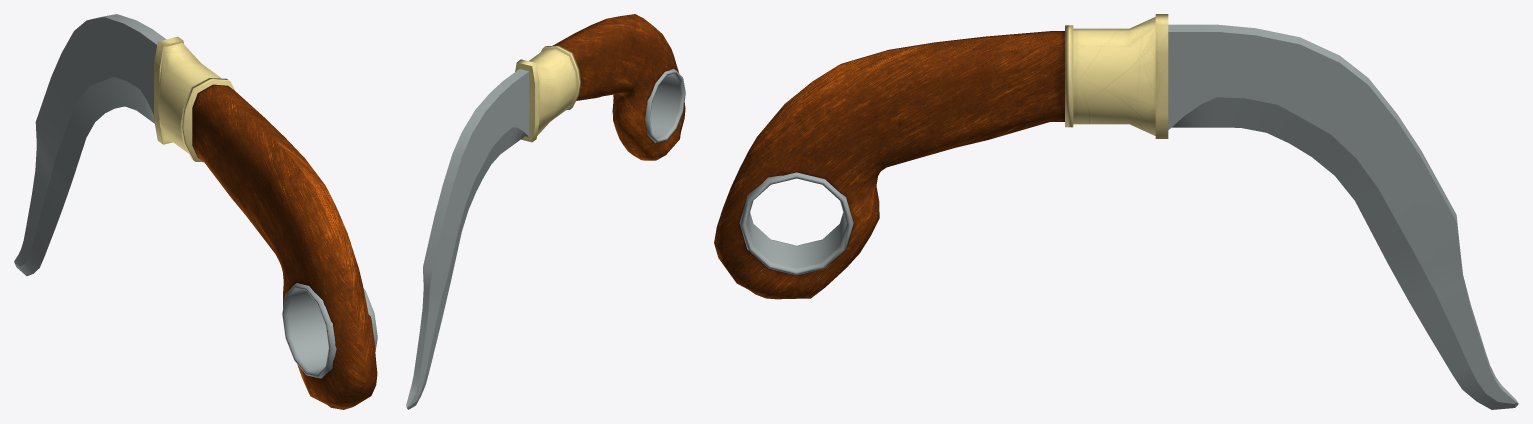
The picture shows the model from 3 angles, left to right: view 1: azimuth 30°, elevation 25°; view 2: azimuth 150°, elevation 25°; view 3: azimuth 270°, elevation 25°; orthographic projection. The views are drawn at different scales.
Parts seen in each view (by area): view 1: Pisau_Karambiak_Sumatera; view 2: Pisau_Karambiak_Sumatera; view 3: Pisau_Karambiak_Sumatera.
Boxes of the visible parts, x1,y1,x2,y2 form: Pisau_Karambiak_Sumatera: (14, 14, 377, 409); Pisau_Karambiak_Sumatera: (406, 14, 685, 409); Pisau_Karambiak_Sumatera: (714, 14, 1518, 409).
Size of the model in its own units: 0.00417 by 0.0237 by 0.0443.
1 material, 1 textured.
